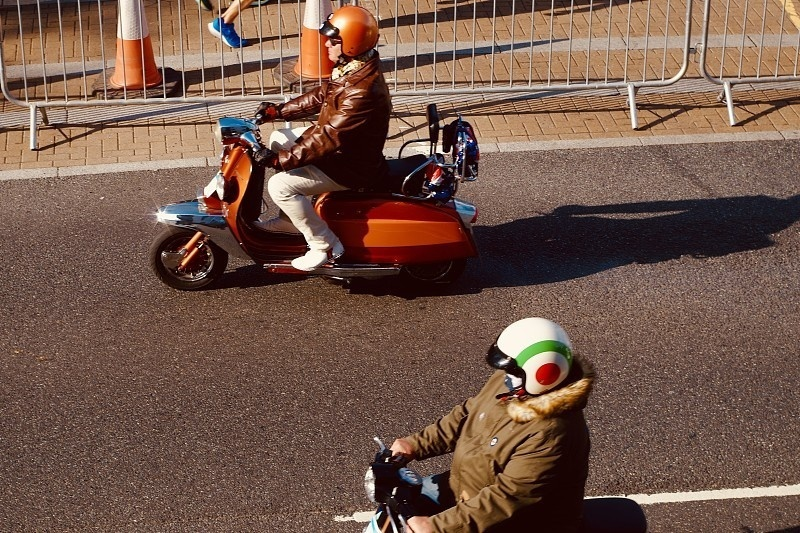non-vehicle: (142, 97, 515, 312), (289, 439, 688, 533)
